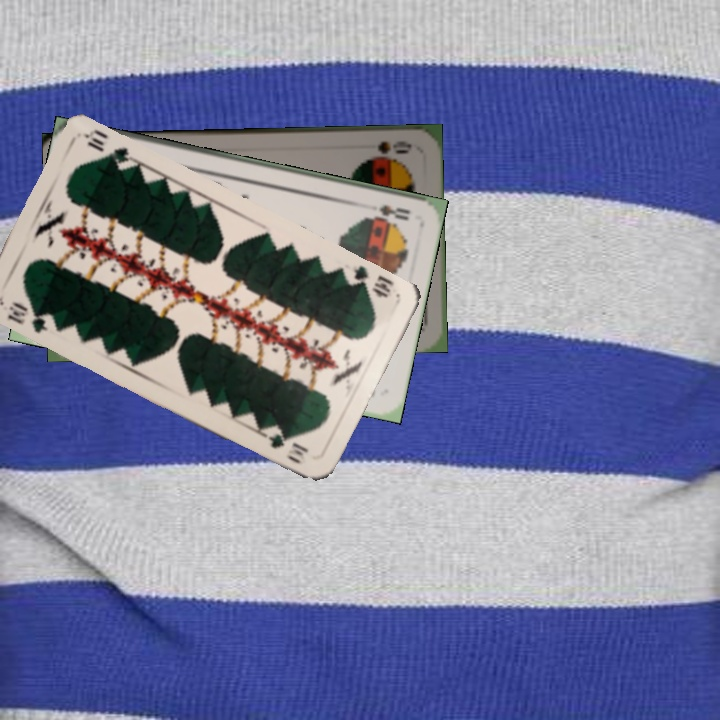G10: (340, 262, 396, 301), (3, 296, 51, 336)
SO: (370, 201, 413, 223), (373, 137, 414, 157)
